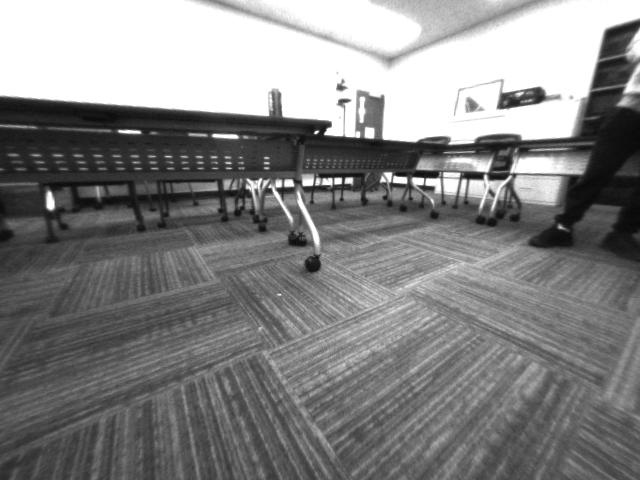can: (265, 83, 287, 116)
